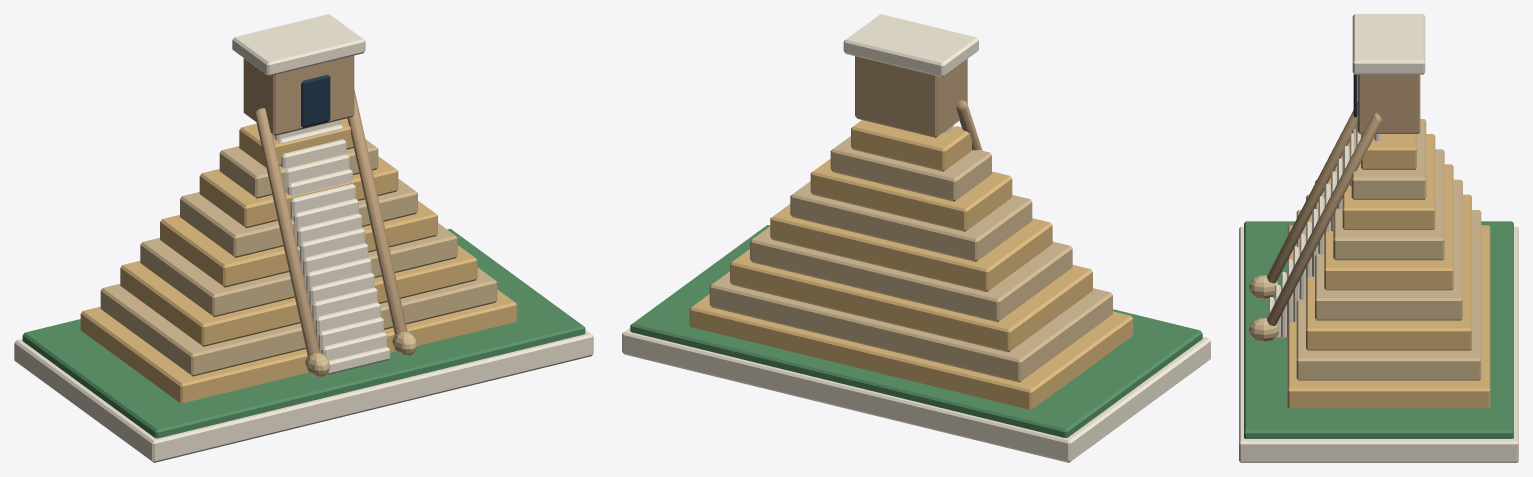
Rendered from chichen-itza.glb.
3 views of the same model, side by side, from view 1: azimuth 30°, elevation 25°; view 2: azimuth 150°, elevation 25°; view 3: azimuth 270°, elevation 25° (orthographic).
Parts seen in each view (by area): view 1: Chichén Itzá; view 2: Chichén Itzá; view 3: Chichén Itzá.
Part boxes in pixels (bbox=[...]): Chichén Itzá: bbox=[14, 14, 593, 462]; Chichén Itzá: bbox=[622, 14, 1210, 462]; Chichén Itzá: bbox=[1239, 14, 1518, 462].
Bounding box in the file's own units: 1.47 × 1.01 × 0.8064.
